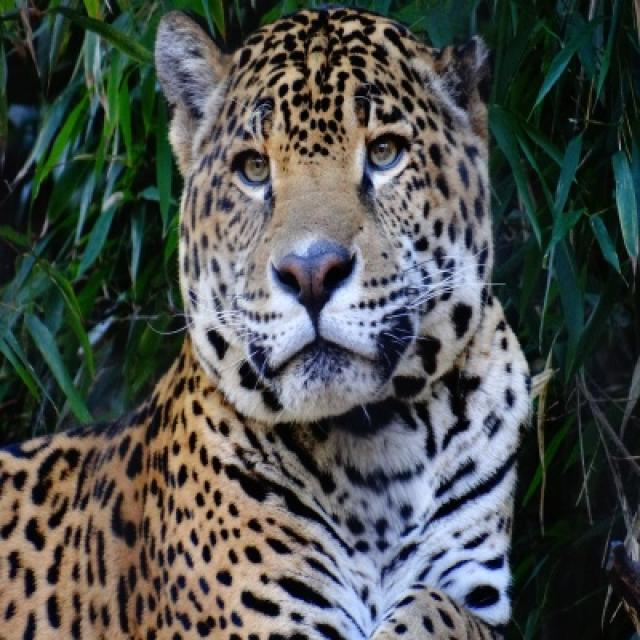Jaguar: (0, 8, 539, 638)
